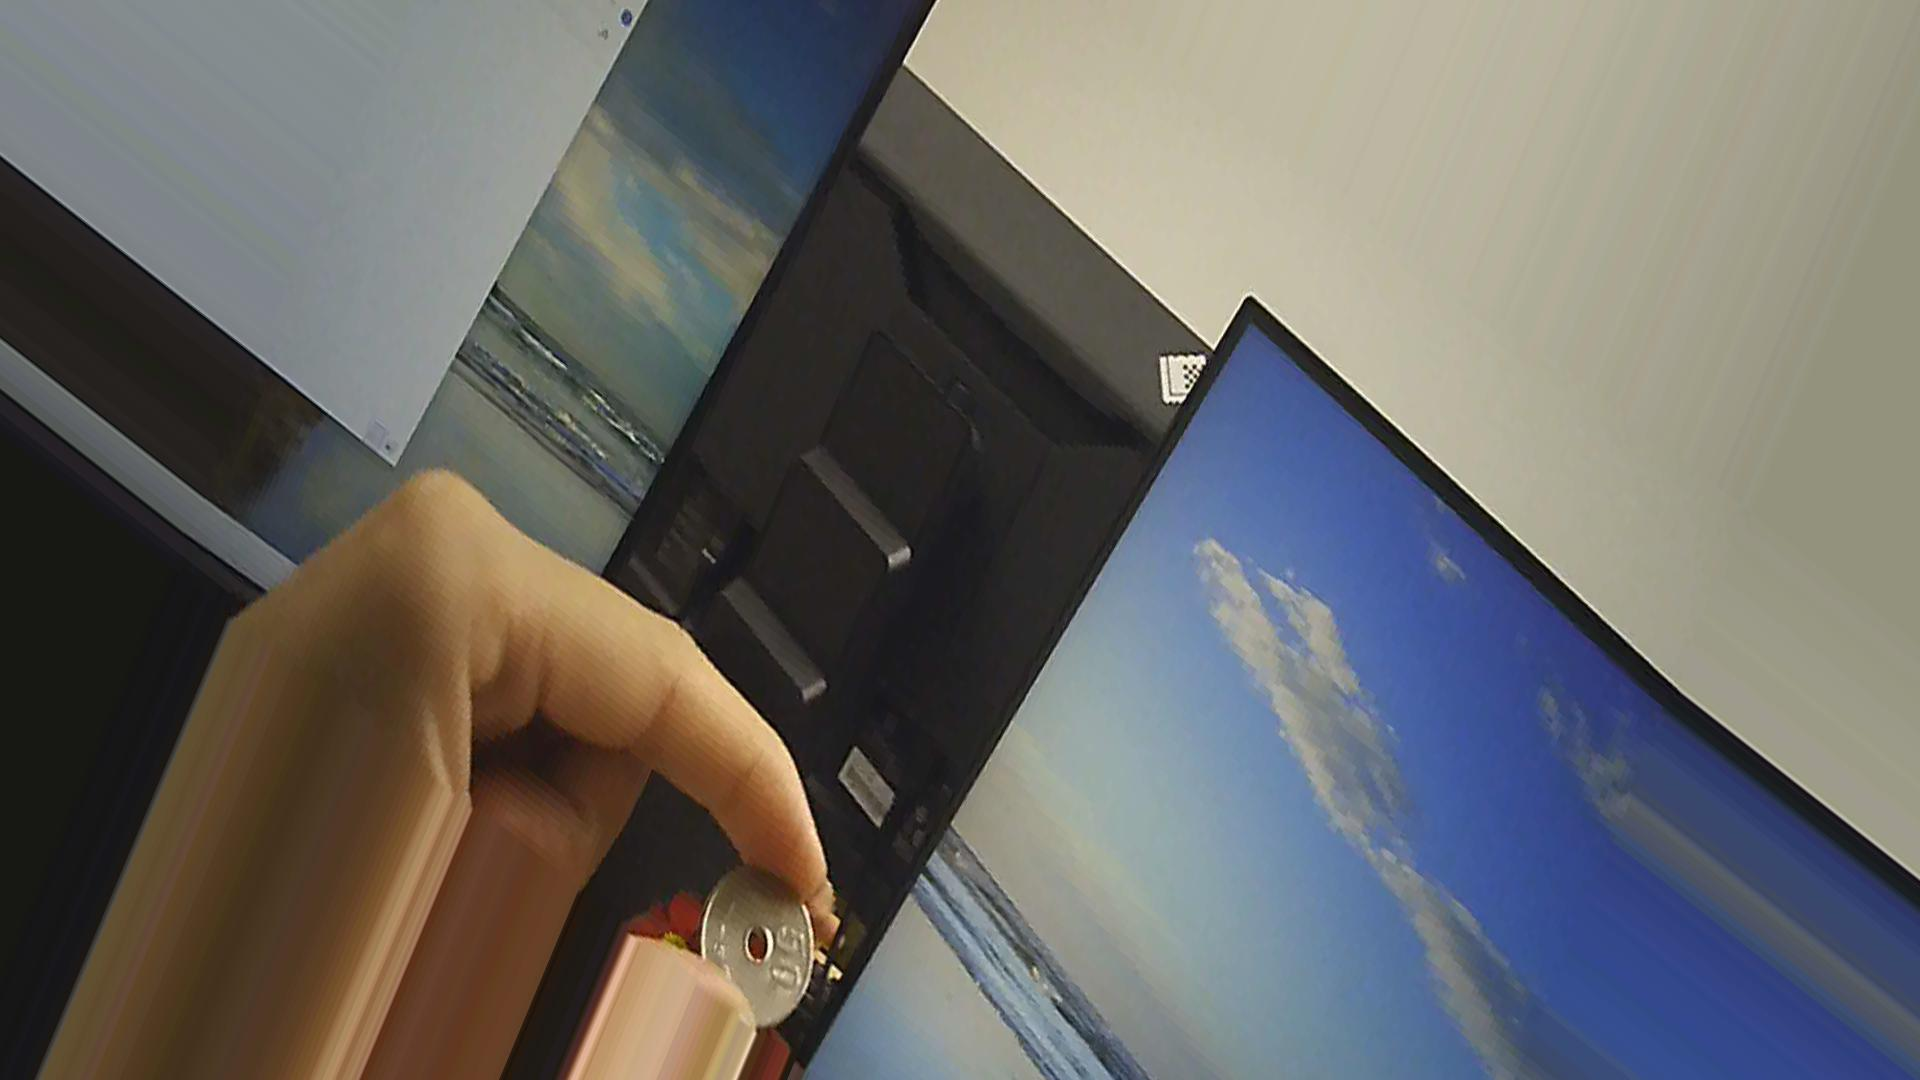50 Yen: (687, 853, 829, 1021)
